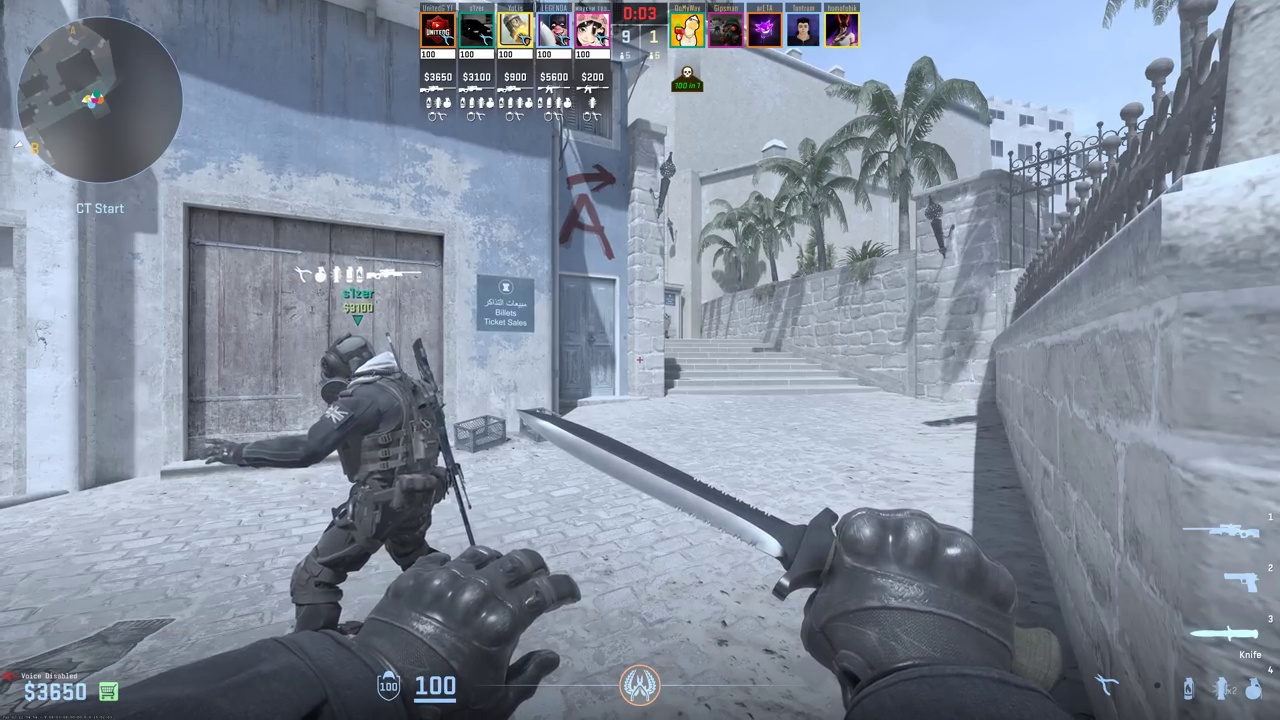CT: (286, 334, 445, 634)
